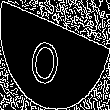O_N: (37, 24, 73, 86)
